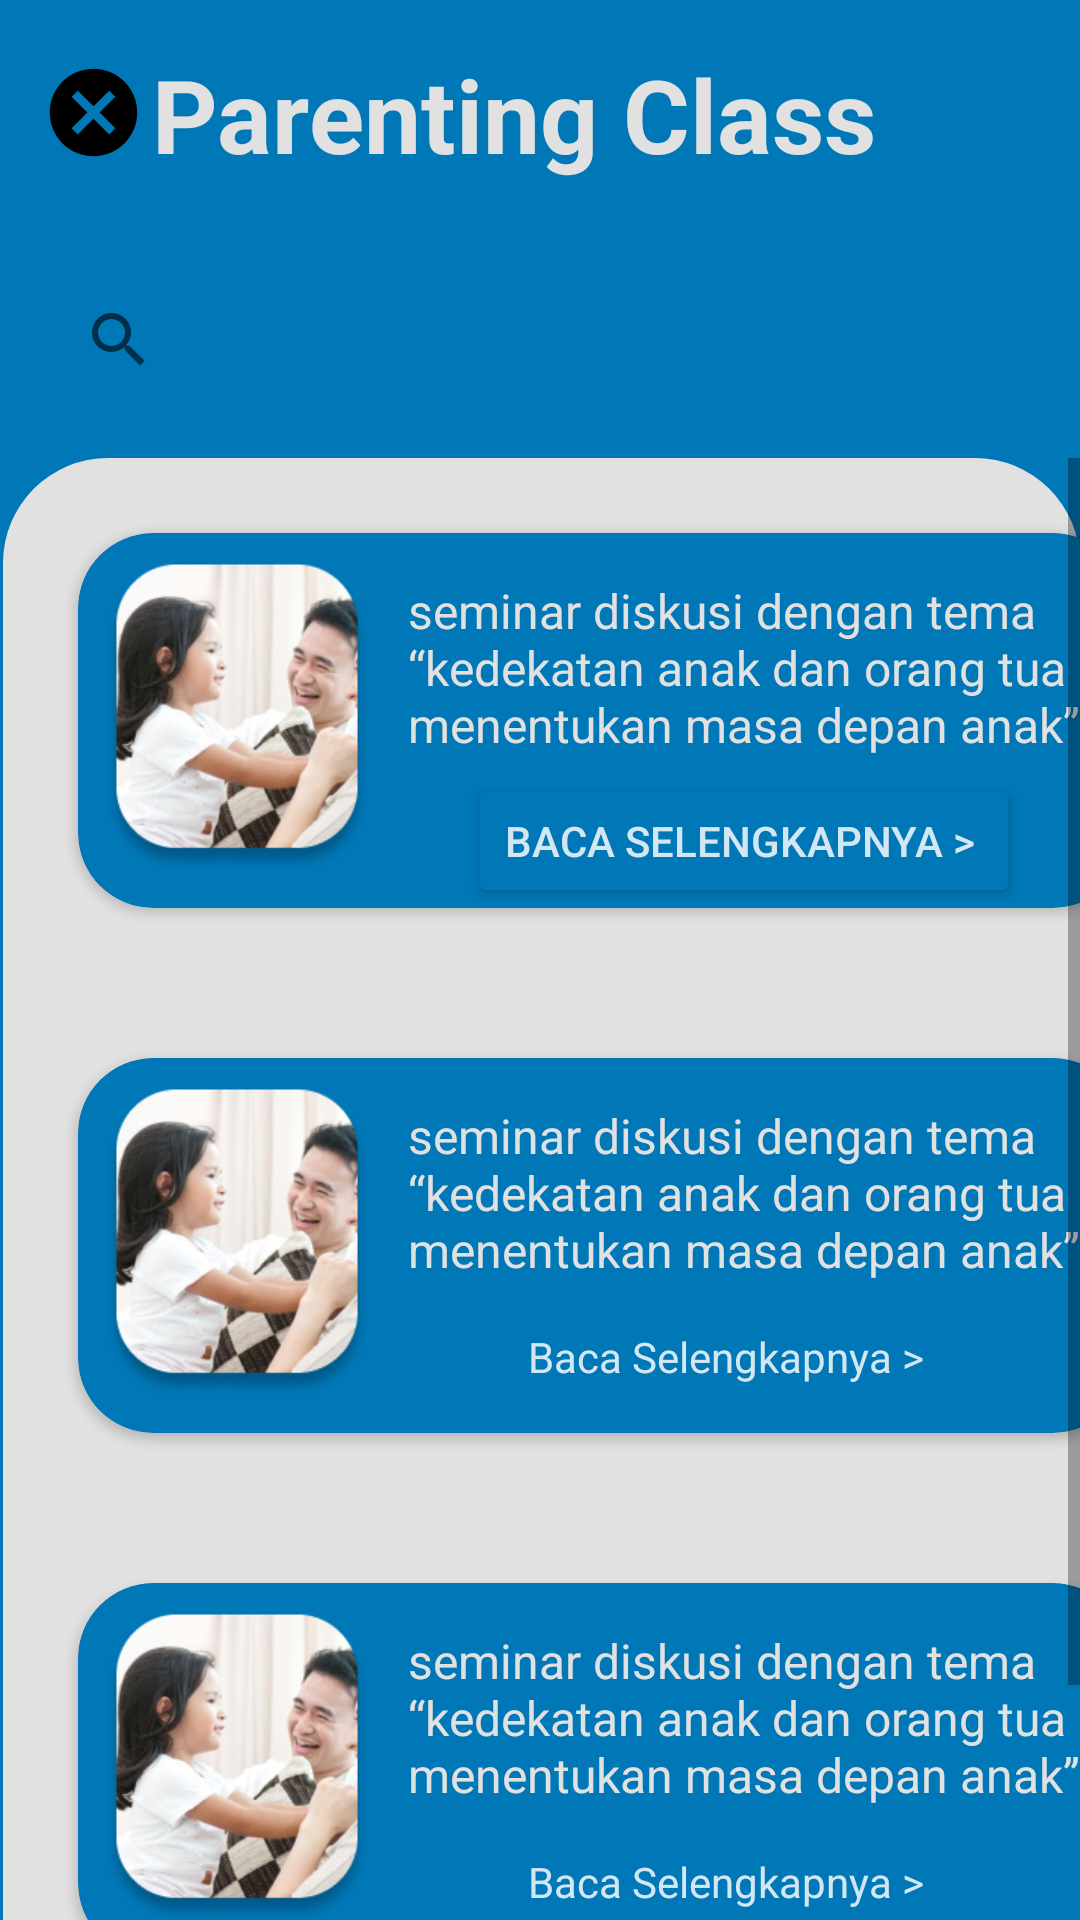

Where to tap for icons on this 1080 × 1920 app screen, as (x,y):
cancel: (93,112)
